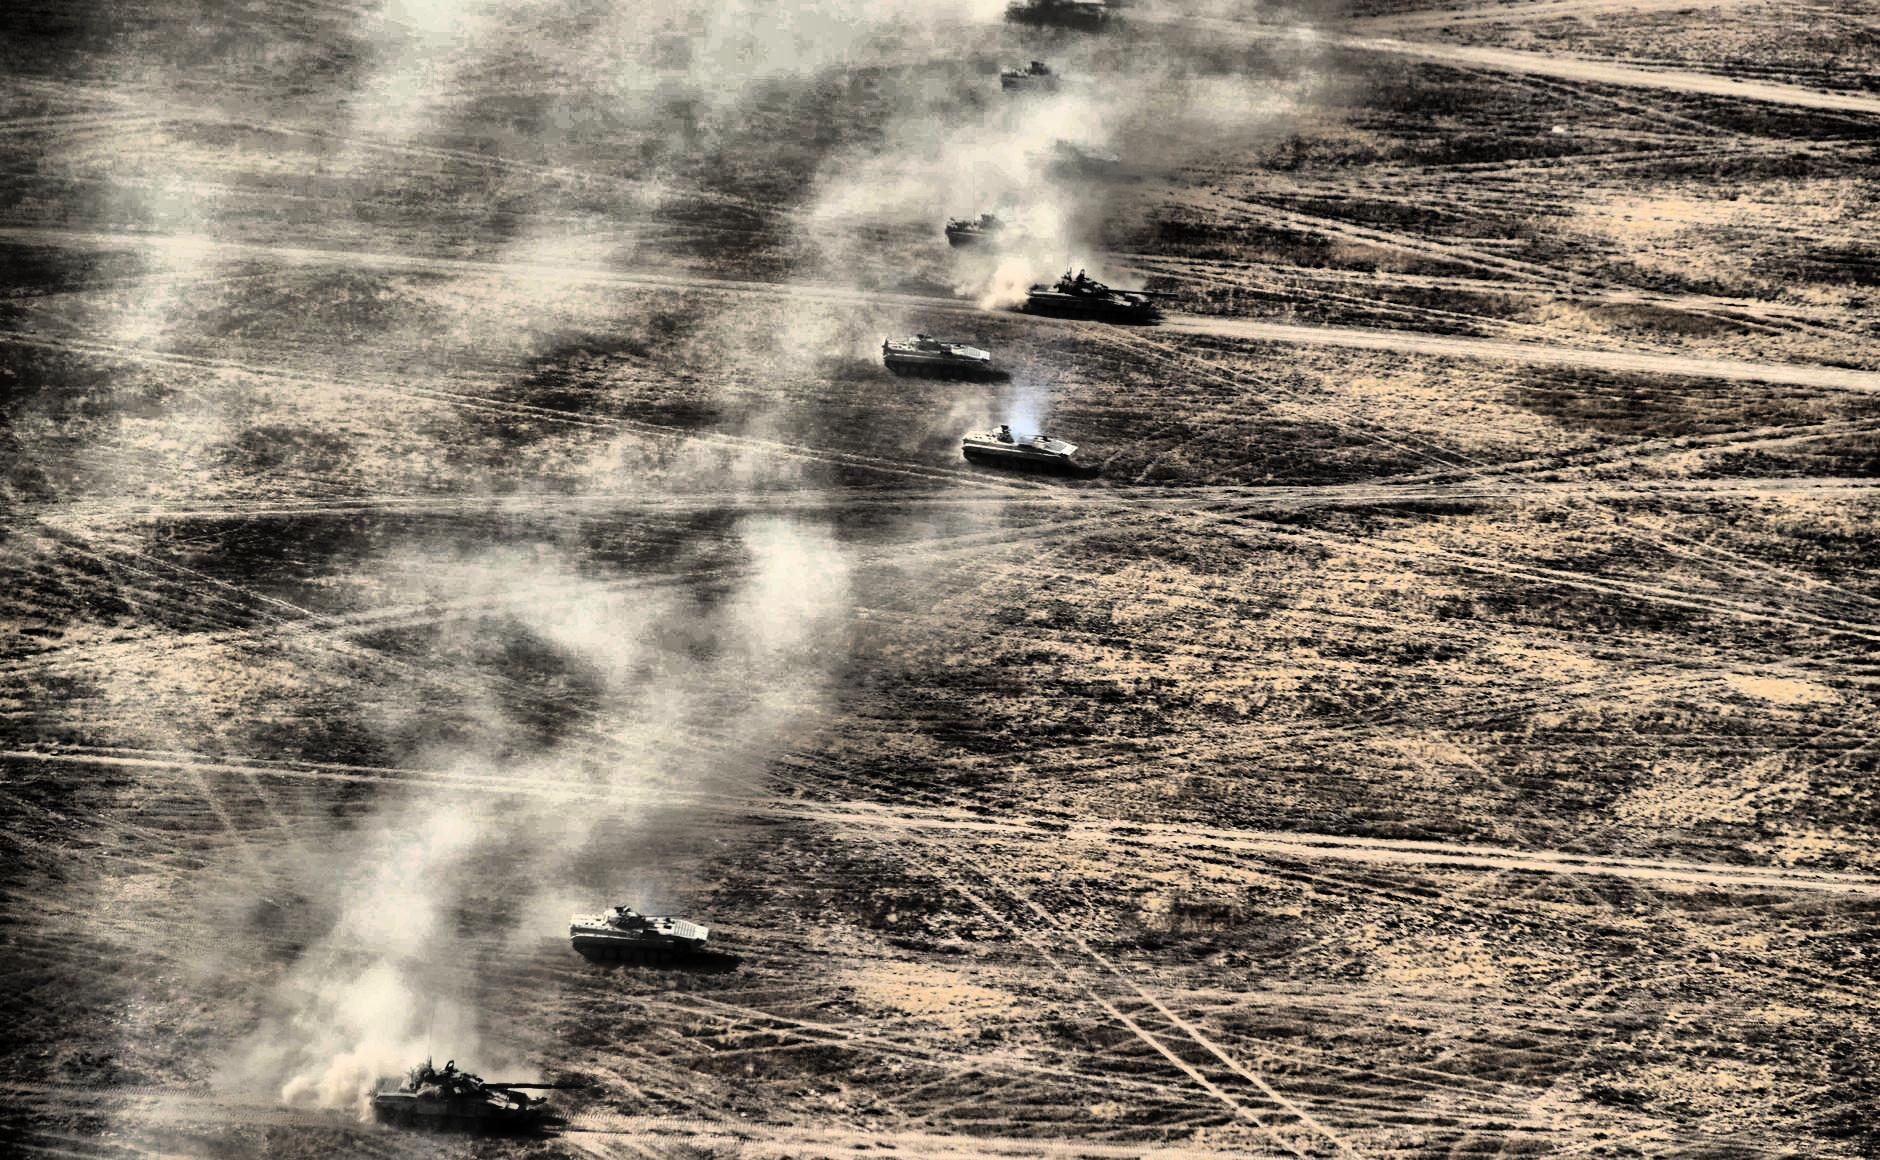military-vehicle: (364, 1062, 585, 1136), (568, 908, 710, 968), (1018, 270, 1180, 320), (957, 422, 1078, 478), (878, 334, 994, 380), (941, 209, 1050, 258)
